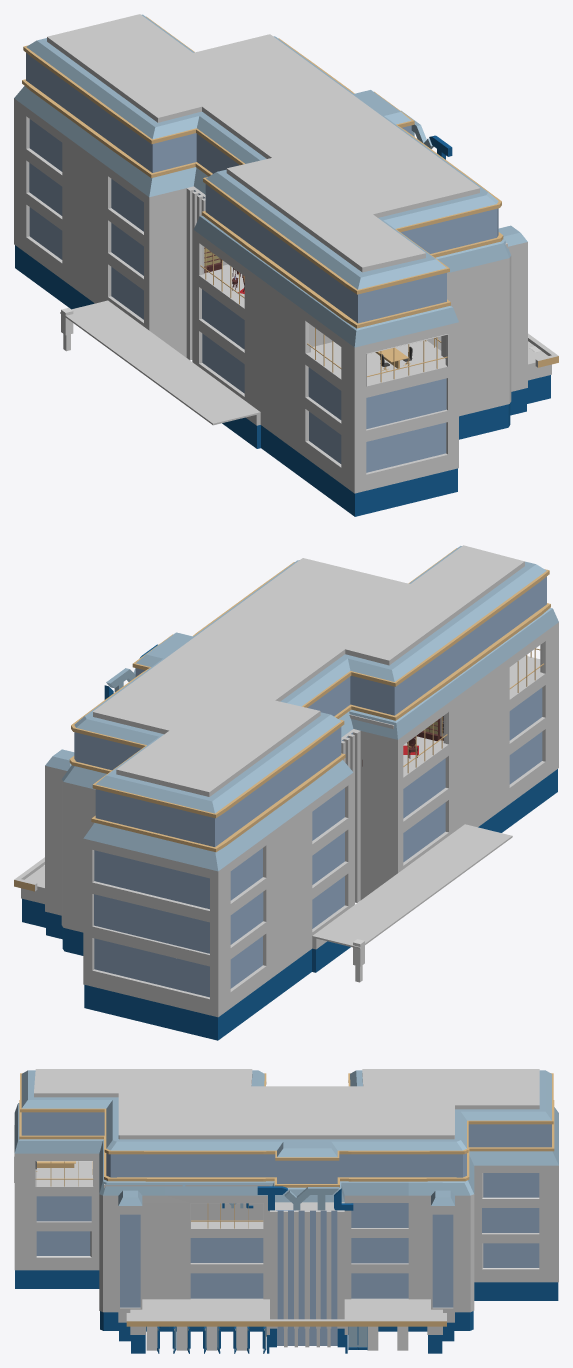
Rendered from Office.fbx.
The picture shows the model from 3 angles, top to bottom: view 1: azimuth 30°, elevation 25°; view 2: azimuth 150°, elevation 25°; view 3: azimuth 270°, elevation 25°; orthographic projection. The views are drawn at different scales.
Parts seen in each view (by area): view 1: Plane.042, Plane.036, Cube.023; view 2: Plane.042, Plane.036, Cube.023; view 3: Plane.042, Plane.036, Plane.006, Cube.020, Cube.019, Cube.102, Plane.005, Cube.023.
Part boxes in pixels (x1,y1,x2,y2): Plane.042: [14, 14, 558, 516]; Plane.036: [202, 242, 507, 384]; Cube.023: [200, 248, 447, 382]; Plane.042: [14, 545, 558, 1040]; Plane.036: [349, 644, 542, 773]; Cube.023: [403, 648, 543, 773]; Plane.042: [14, 1069, 558, 1353]; Plane.036: [35, 1161, 269, 1227]; Plane.006: [257, 1186, 353, 1210]; Cube.020: [367, 1326, 408, 1350]; Cube.019: [206, 1326, 247, 1350]; Cube.102: [146, 1326, 187, 1350]; Plane.005: [348, 1326, 367, 1349]; Cube.023: [35, 1161, 263, 1228].
Bounding box in the file's own units: 2194 × 1510 × 3967.
